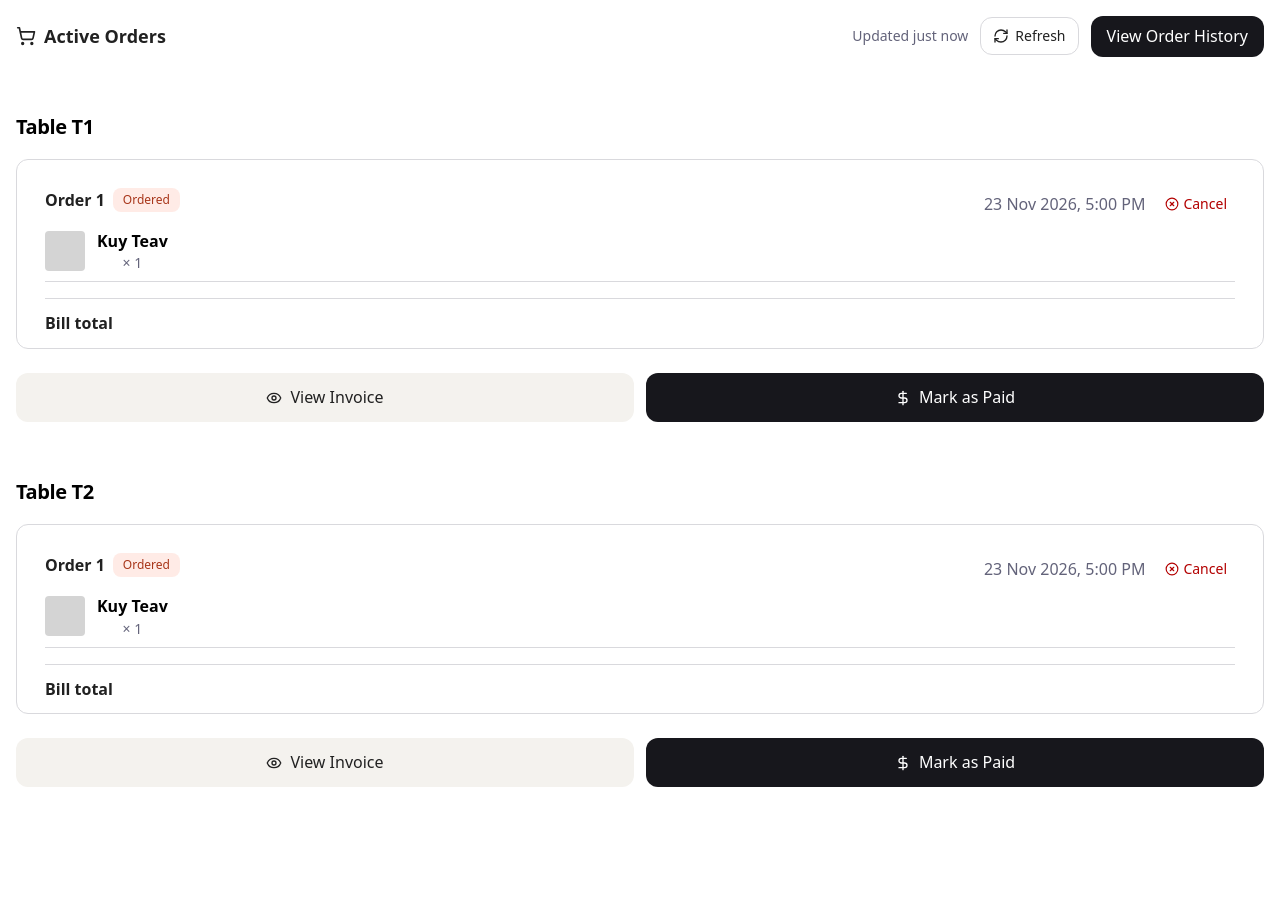
it: cashier open bills › marking paid reloads the list in place, and shows the server's reason when it can't
The image size is (1280, 900).
Later steps or results of the test are not shown.
Expected: the heading "Table T1" is shown, x1=16 y1=113 x2=94 y2=141
Click the 1st button "Mark as Paid". click: point(955, 398)
box: x1=646 y1=373 x2=1264 y2=422
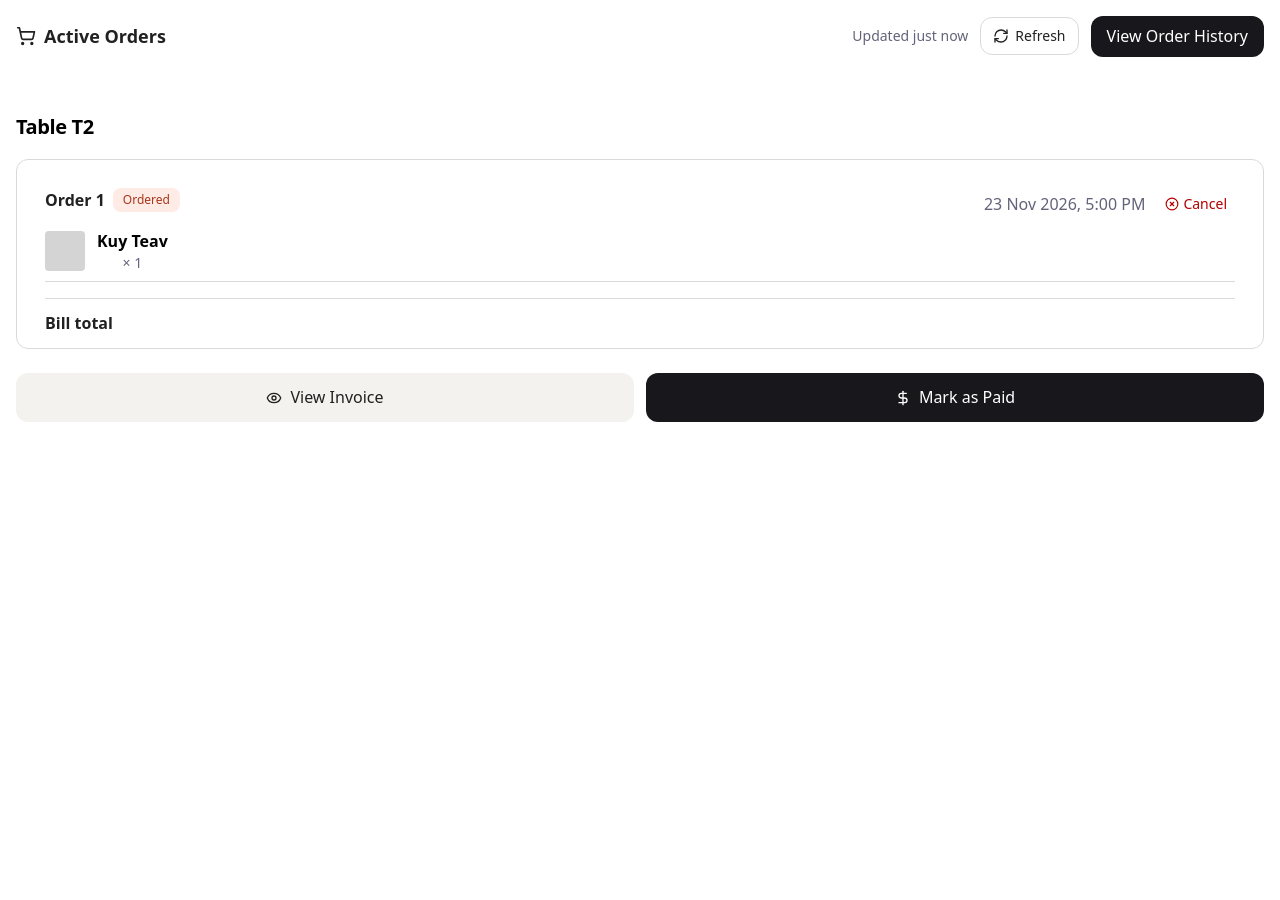
Expected: the heading "Table T1" is gone
